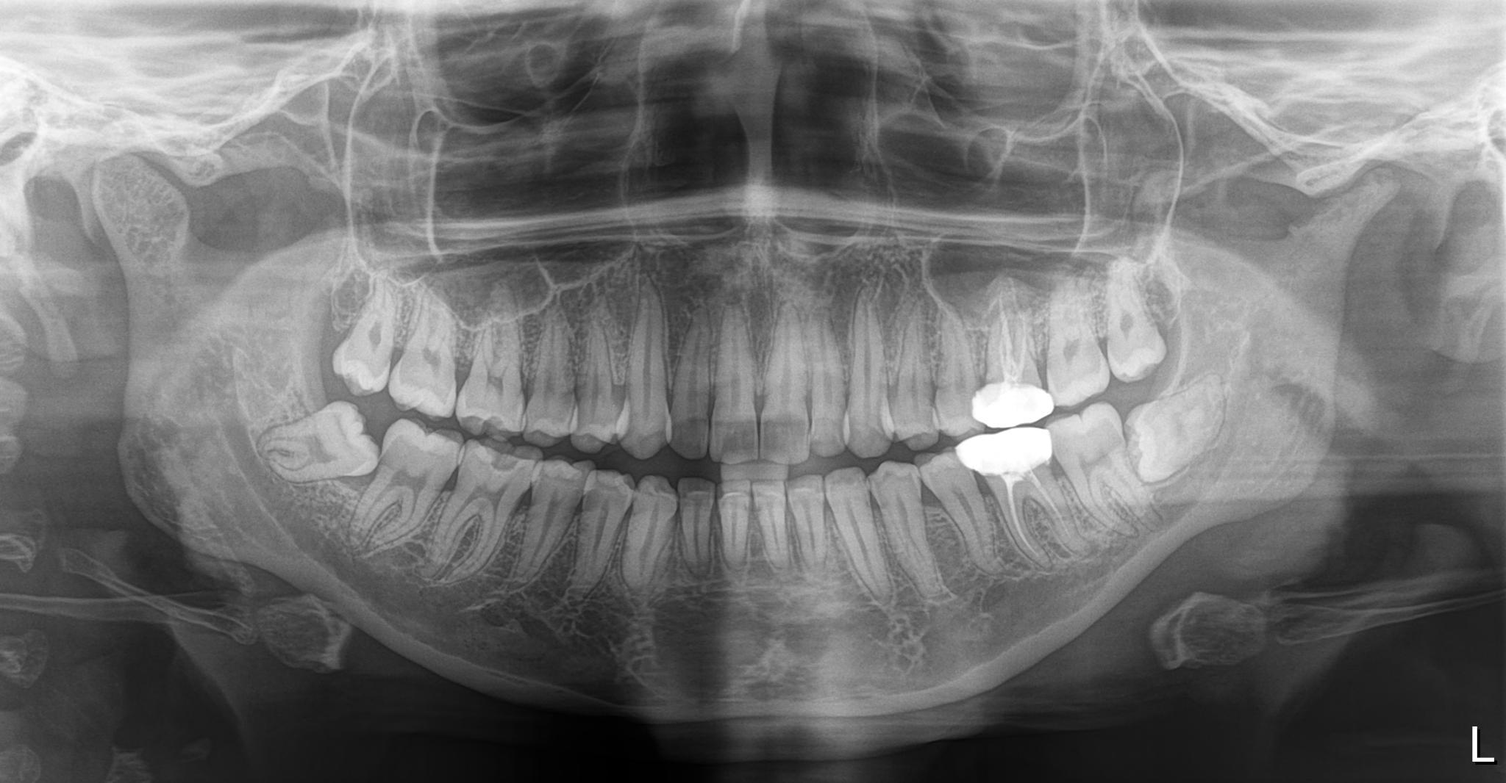Endodontically Treated Tooth: (967, 441, 1086, 570), (980, 296, 1046, 423)
Impacted Third Molar: (1129, 391, 1236, 482), (275, 398, 373, 497)
